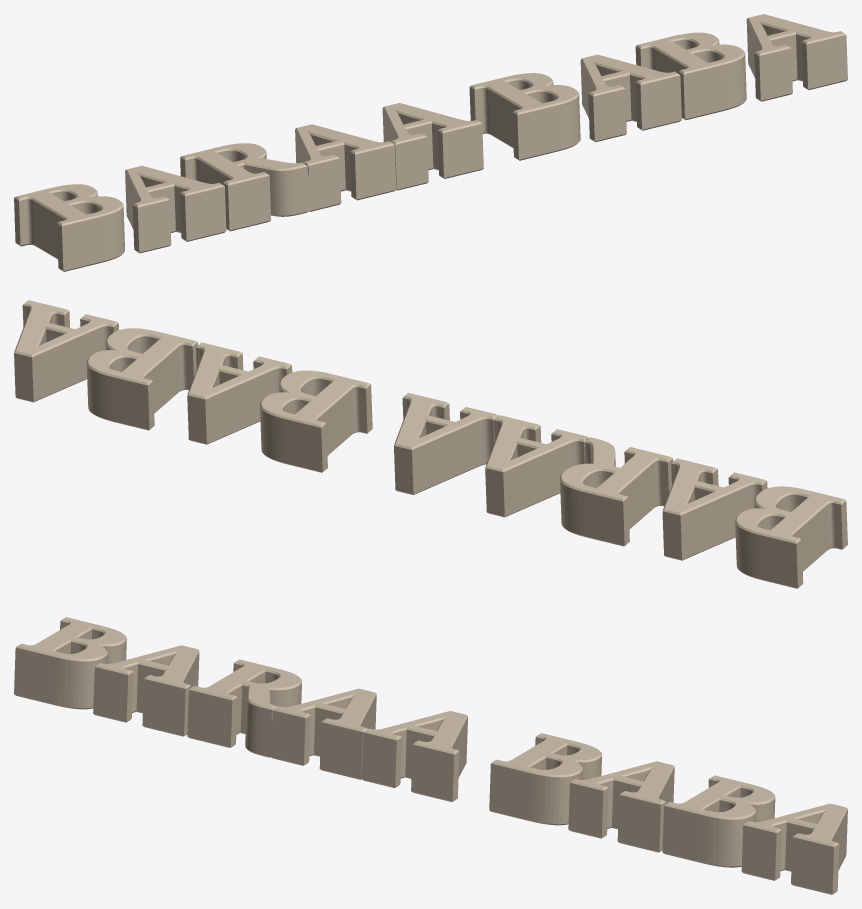
Rendered from my3dname.glb.
3 renders of one model, top to bottom at view 1: azimuth 30°, elevation 25°; view 2: azimuth 150°, elevation 25°; view 3: azimuth 330°, elevation 25°, orthographic. The views are drawn at different scales.
Visible parts, largest first — view 1: Mesh_Mesh_head_geo.001_lambert2SG.001; view 2: Mesh_Mesh_head_geo.001_lambert2SG.001; view 3: Mesh_Mesh_head_geo.001_lambert2SG.001.
Part boxes in pixels (<box>): Mesh_Mesh_head_geo.001_lambert2SG.001: <box>14,14,847,271</box>; Mesh_Mesh_head_geo.001_lambert2SG.001: <box>14,300,847,588</box>; Mesh_Mesh_head_geo.001_lambert2SG.001: <box>14,617,847,894</box>.
Bounding box in the file's own units: 193 × 12.56 × 21.08.
